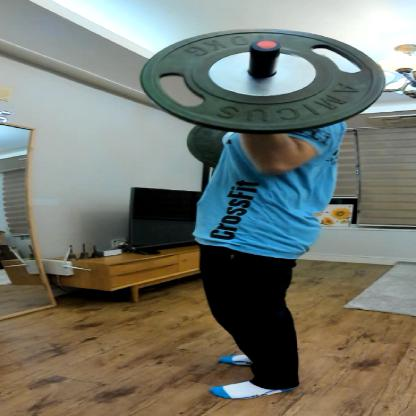Barbell: (134, 21, 388, 136)
